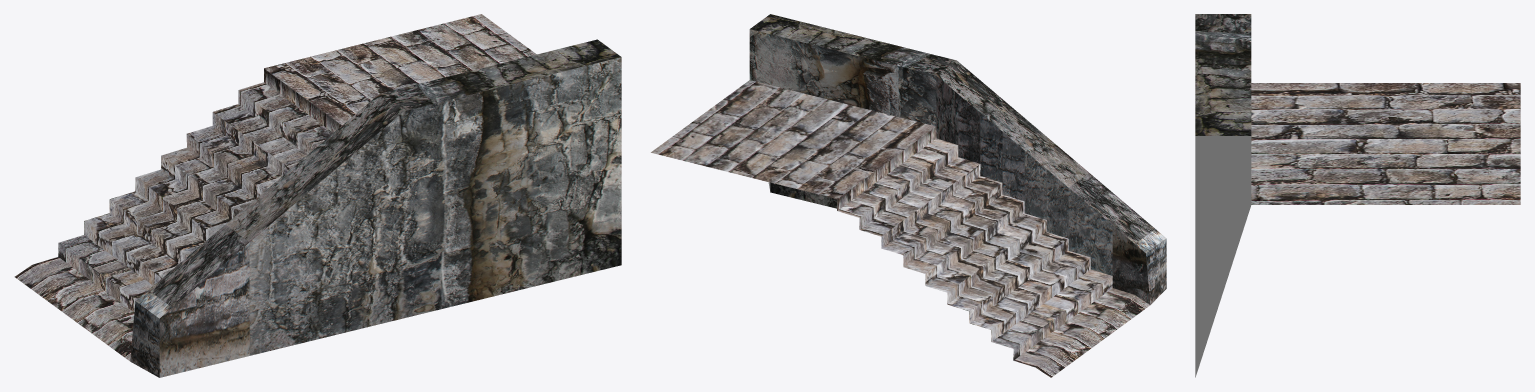
The model's file is TexturedStairs.fbx.
The picture shows the model from 3 angles, left to right: view 1: azimuth 30°, elevation 25°; view 2: azimuth 150°, elevation 25°; view 3: azimuth 270°, elevation 25°; orthographic projection. The views are drawn at different scales.
Parts seen in each view (by area): view 1: pPlane1; view 2: pPlane1; view 3: pPlane1.
Boxes of the visible parts, x1,y1,x2,y2 form: pPlane1: (14,14,621,377); pPlane1: (651,14,1166,377); pPlane1: (1195,14,1520,377).
Size of the model in its own units: 20.91 by 8.9 by 10.84.
